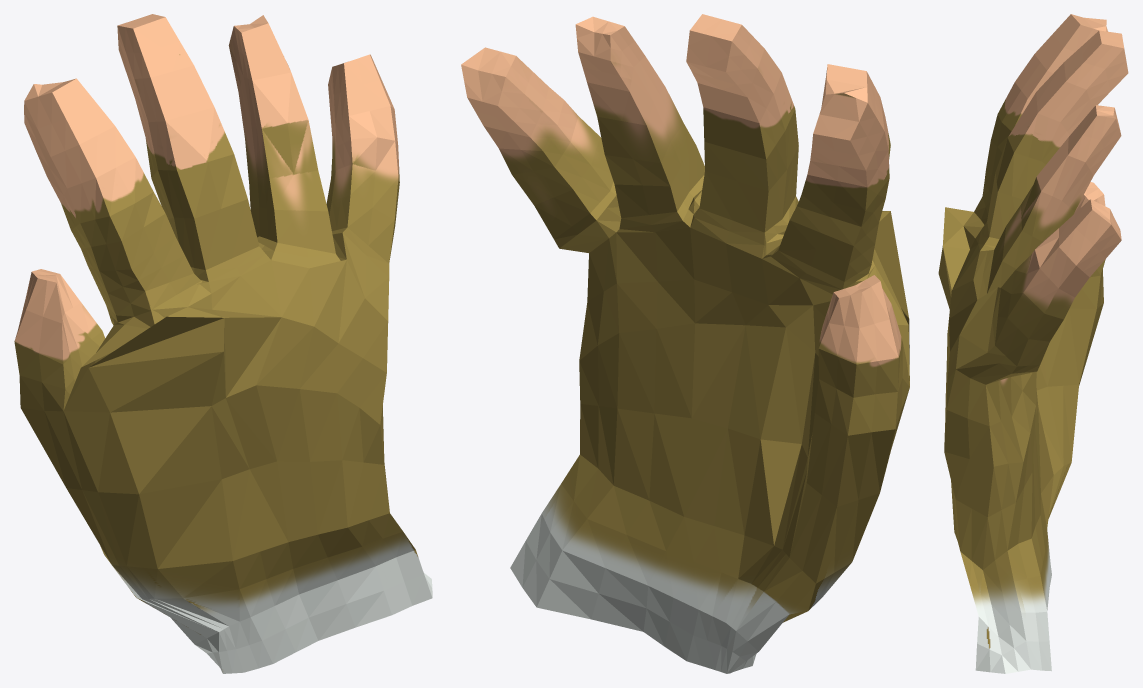
File: grip0016.obj
The picture shows the model from 3 angles, left to right: view 1: azimuth 30°, elevation 25°; view 2: azimuth 150°, elevation 25°; view 3: azimuth 270°, elevation 25°; orthographic projection. The views are drawn at different scales.
Parts seen in each view (by area): view 1: Hand; view 2: Hand; view 3: Hand.
Part boxes in pixels (<box>): Hand: <box>14,14,432,673</box>; Hand: <box>461,14,909,673</box>; Hand: <box>938,14,1128,673</box>.
Bounding box in the file's own units: 3 × 4.71 × 1.41.
